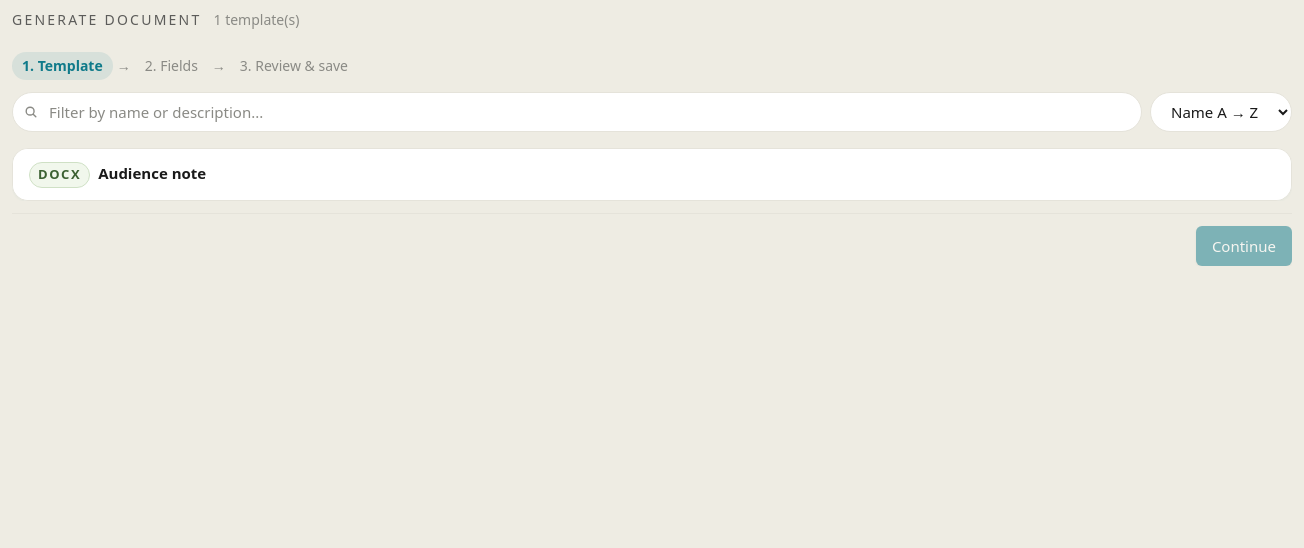
Scenario: GenerateDocumentPanel › generates docx-sourced template through tags reconciliation then save step
Click the button "DOCX Audience note" at [60, 175], box [13,149,1291,200]
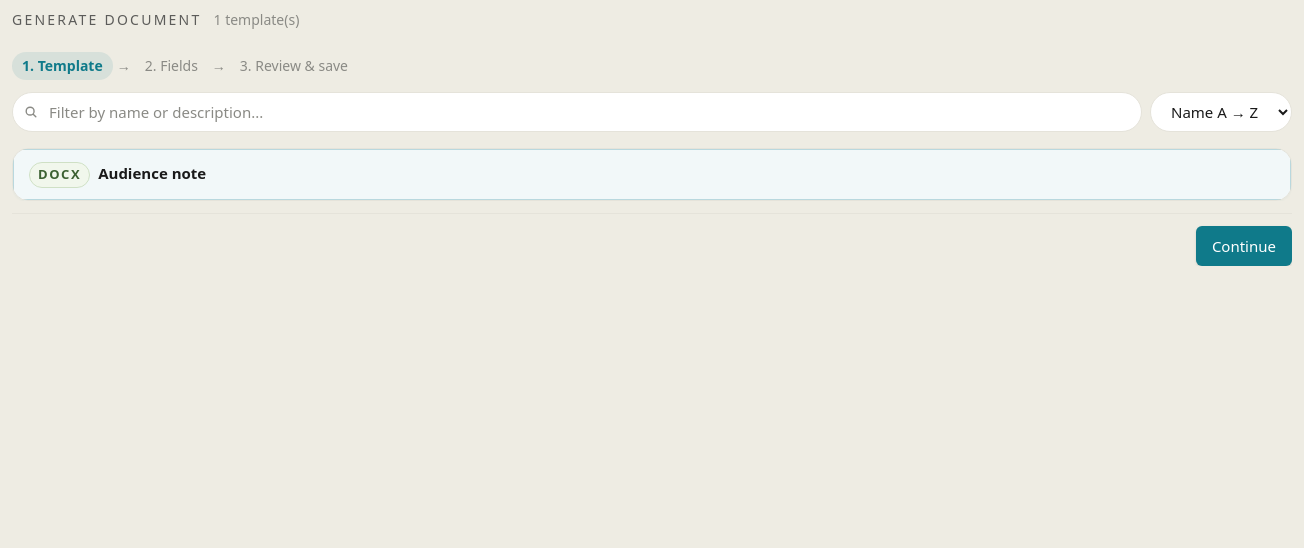
Click the button "Continue" at [1244, 246], box [1196,226,1292,266]
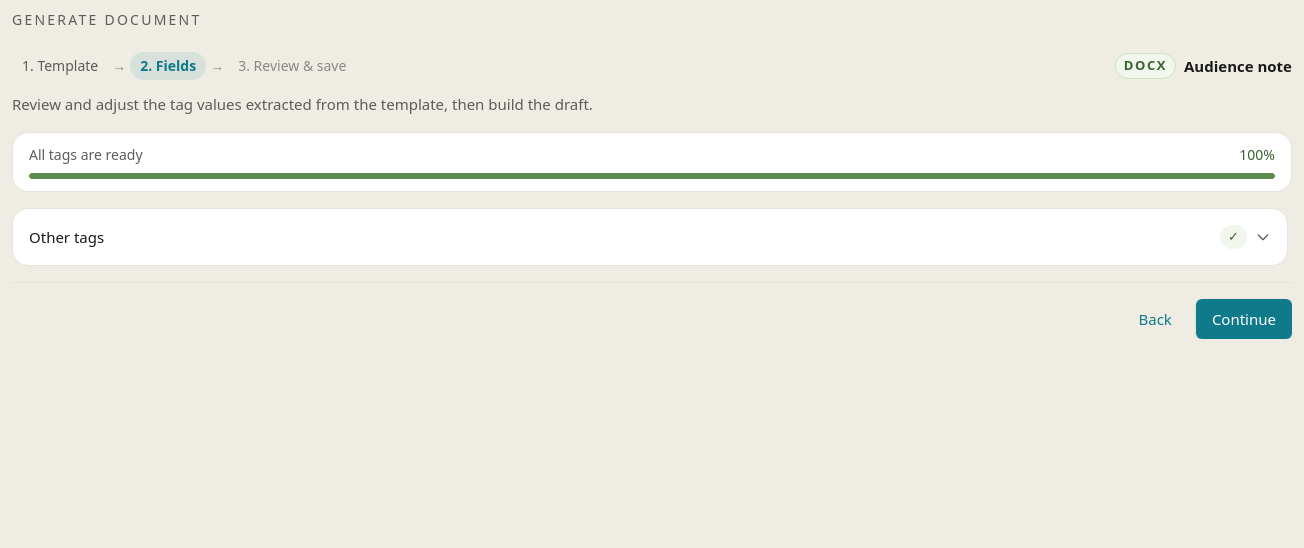
Check: the text "Review and adjust the tag values extracted from the template, then build the draft." is shown, box [12,94,593,114]
Proceed through tags step to docx-save step
Click the button "Continue" at [1244, 319], box [1196,299,1292,339]
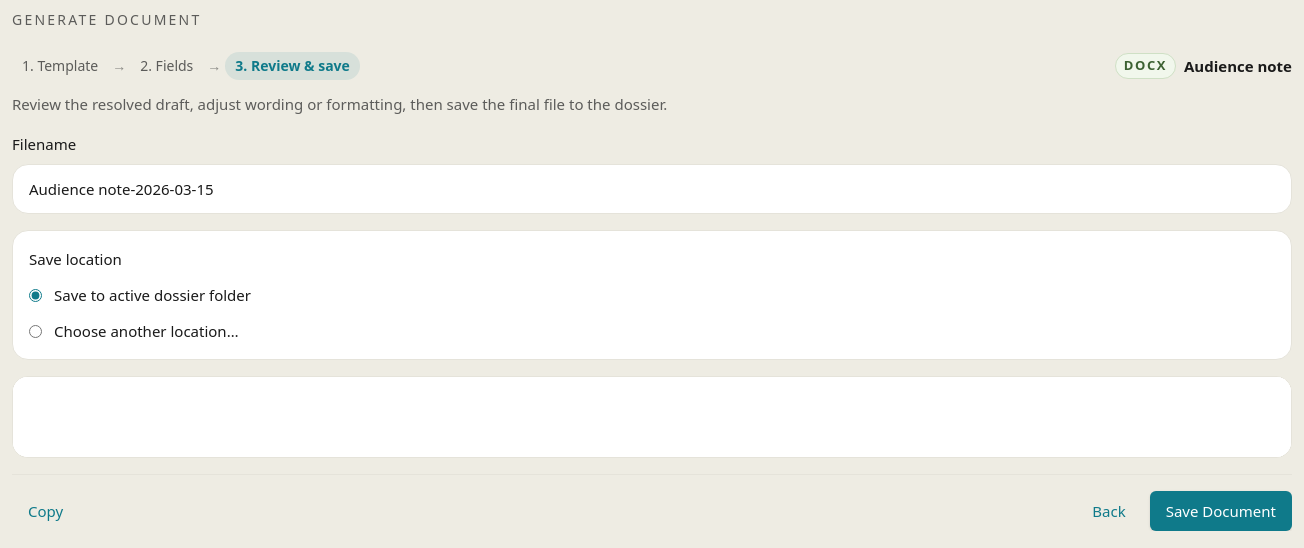
Check: the field labelled "Filename" is shown, box [12,164,1292,214]
Save the document
Click the button "Save Document" at [1221, 511], box [1150,491,1292,531]
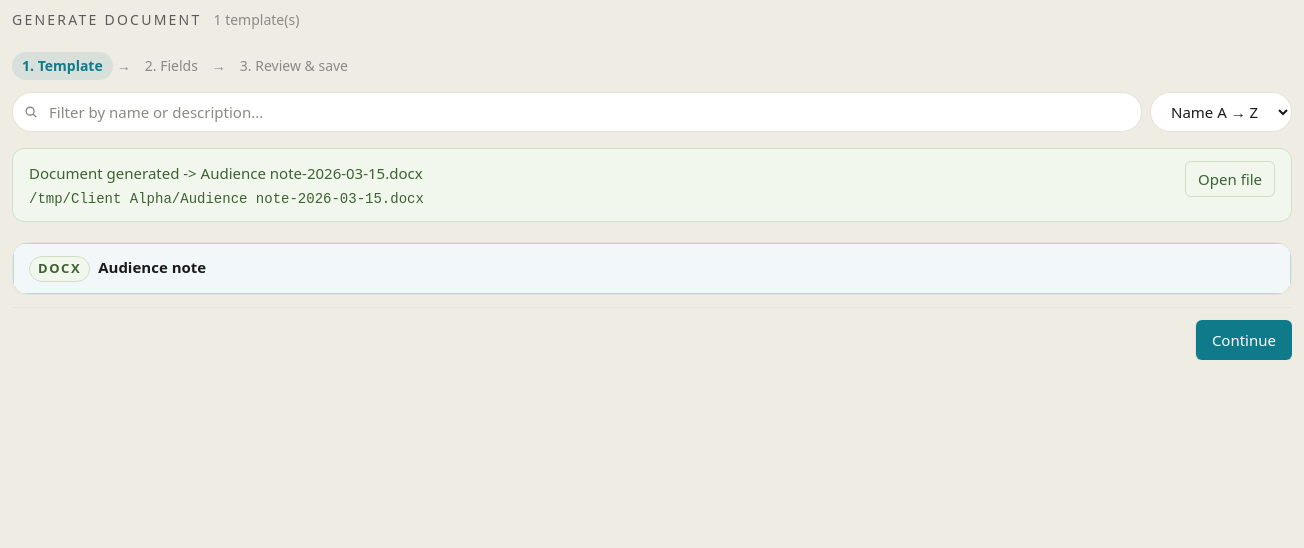
Check: the message shows "Audience note-2026-03-15.docx", box [29,163,423,183]
